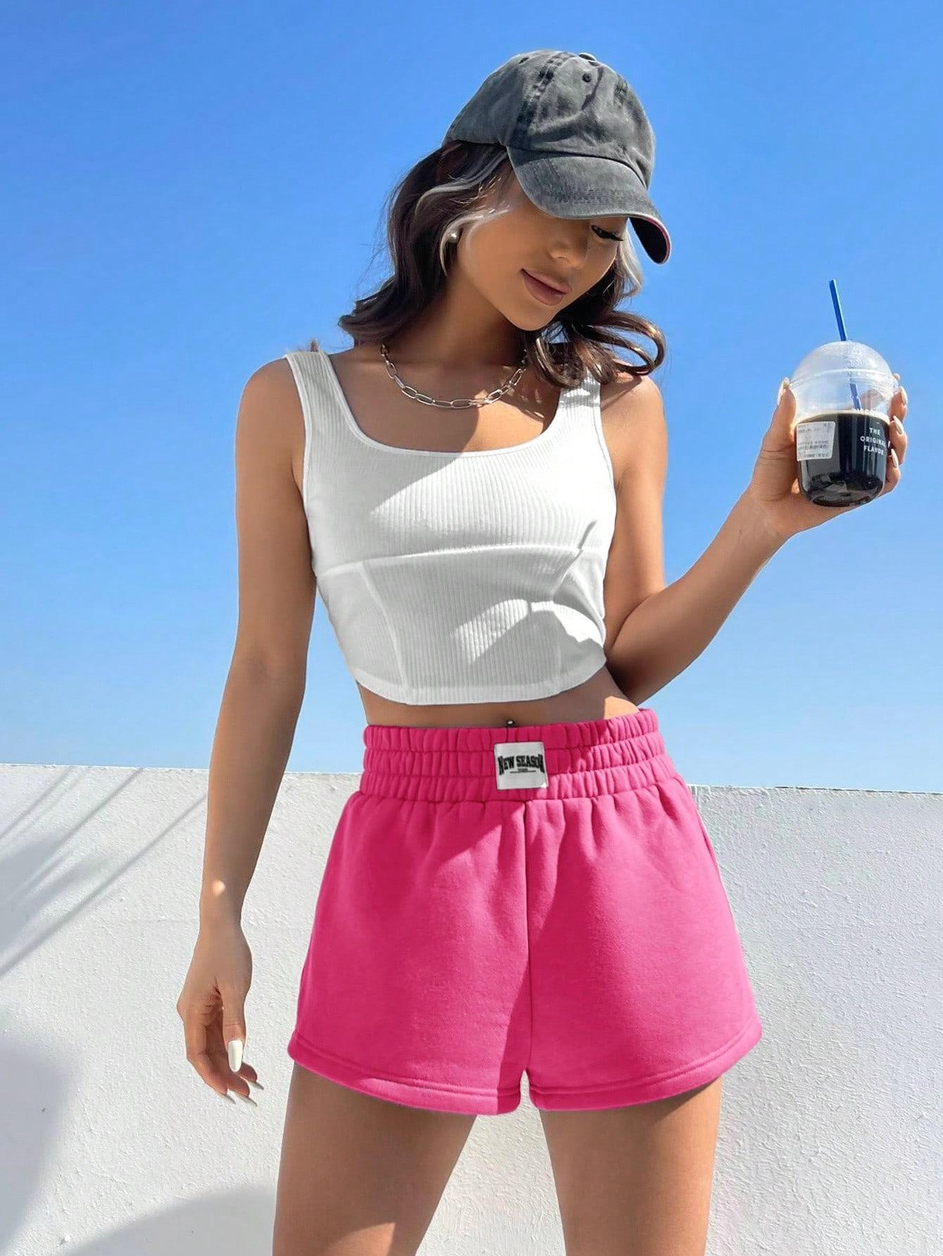Shorts: (277, 722, 764, 1125)
vest: (271, 338, 622, 708)
